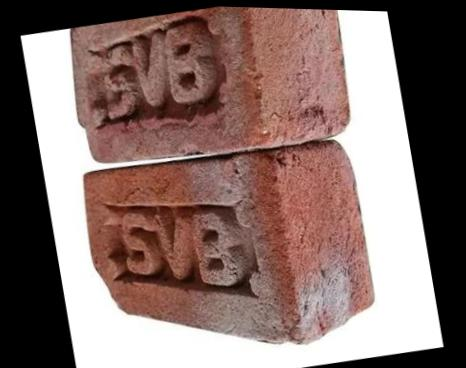brick: (78, 138, 311, 368), (62, 2, 284, 173)
